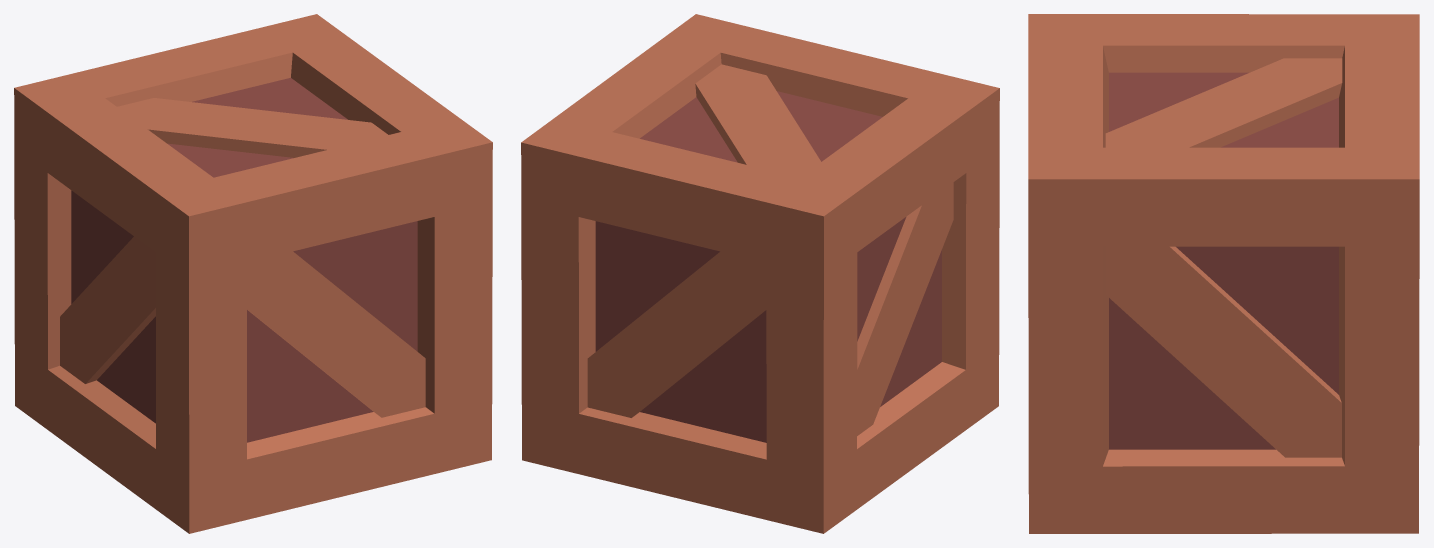
The model's file is crate.obj.
3 renders of one model, left to right at view 1: azimuth 30°, elevation 25°; view 2: azimuth 150°, elevation 25°; view 3: azimuth 270°, elevation 25°, orthographic. The views are drawn at different scales.
Visible parts, largest first — view 1: crate.obj; view 2: crate.obj; view 3: crate.obj.
Boxes of the visible parts, x1=… form: crate.obj: x1=14, y1=14, x2=492, y2=533; crate.obj: x1=521, y1=14, x2=999, y2=533; crate.obj: x1=1028, y1=14, x2=1419, y2=533.
Bounding box in the file's own units: 1 × 1 × 1.
